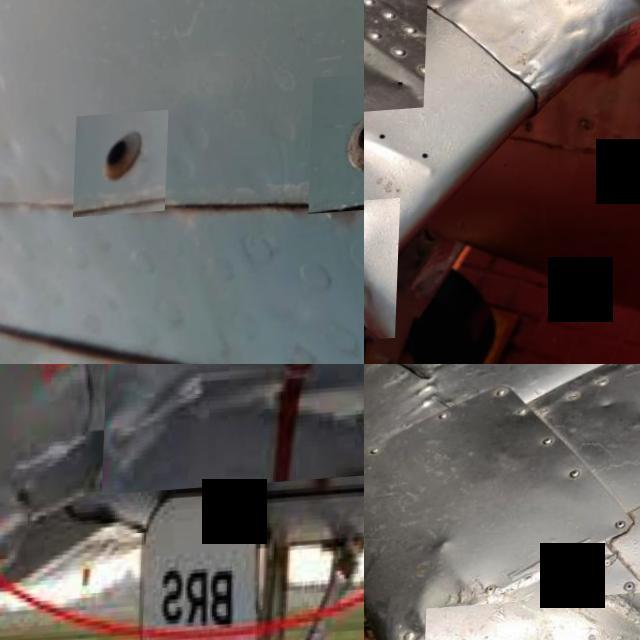Dent: (107, 364, 364, 493), (364, 0, 428, 125), (364, 202, 402, 347)
Missing_Fastener: (76, 112, 171, 218), (311, 75, 364, 218)
